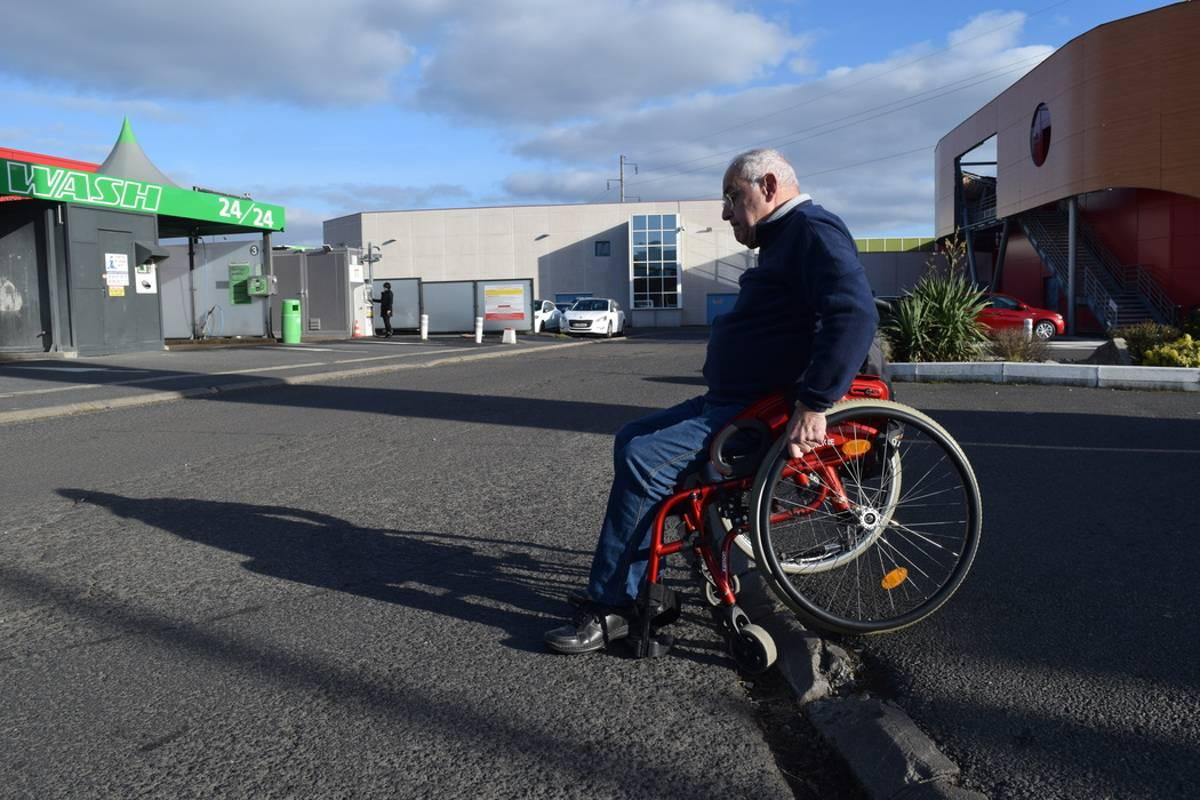wheelchair: (543, 149, 984, 672)
